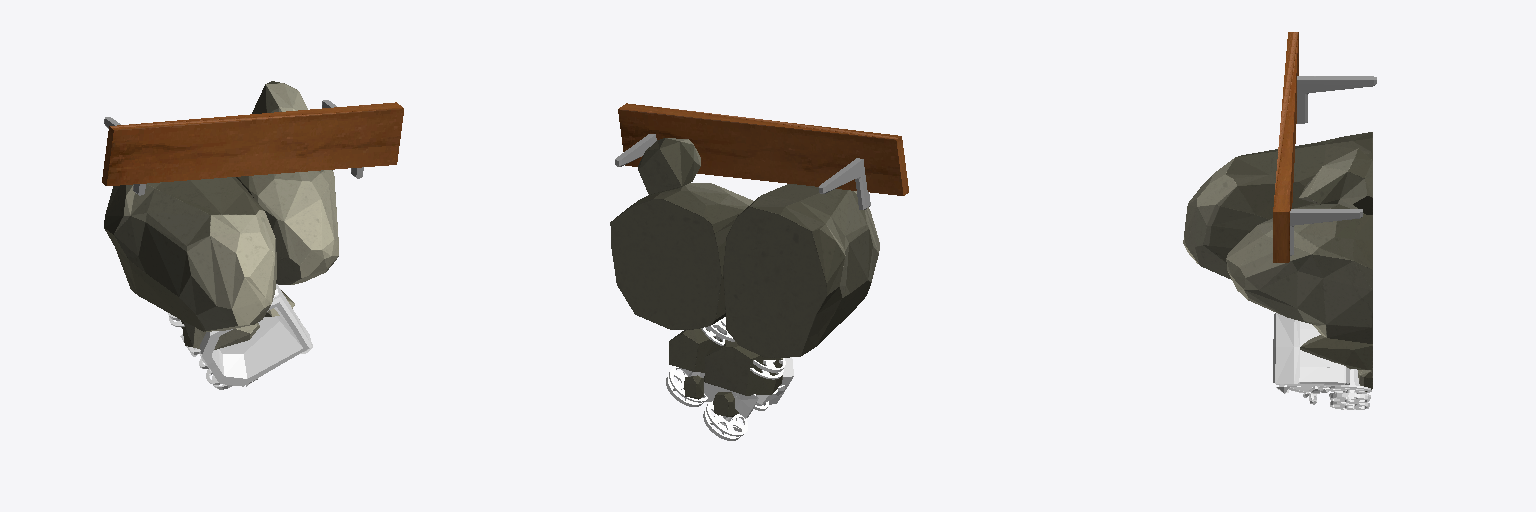
3 views of the same model, side by side, from view 1: azimuth 30°, elevation 25°; view 2: azimuth 150°, elevation 25°; view 3: azimuth 270°, elevation 25° (orthographic).
Parts seen in each view (by area): view 1: Object.2, Object.6, Object.1, Object.3; view 2: Object.1, Object.2, Object.6, Object.3; view 3: Object.1, Object.2, Object.6, Object.3.
Part boxes in pixels (x1,y1,x2,y2): Object.2: (104,177,276,331); Object.6: (102,100,403,195); Object.1: (167,170,338,389); Object.3: (252,81,307,113); Object.1: (610,183,793,440); Object.2: (723,184,879,357); Object.6: (615,103,908,209); Object.3: (638,138,700,194); Object.1: (1226,203,1372,409); Object.2: (1183,132,1372,279); Object.6: (1273,32,1376,262); Object.3: (1299,148,1372,214).
Size of the model in its own units: 53.27 by 54.85 by 30.71.
4 materials, 3 textured.